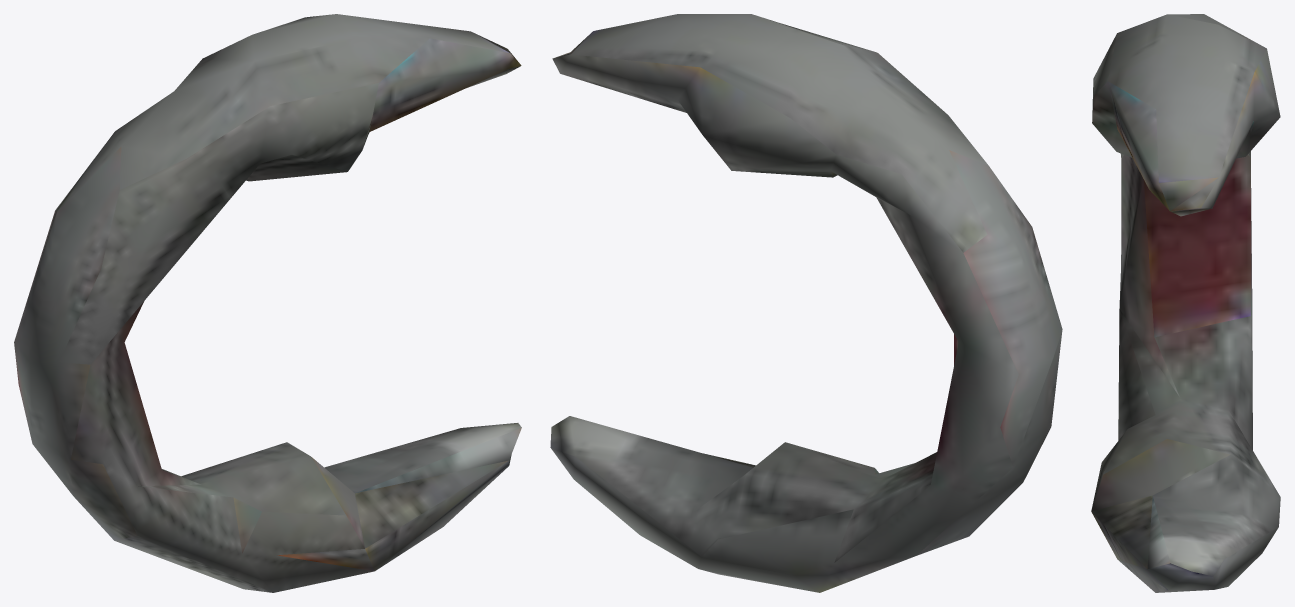
The model's file is dagger_round.glb.
3 views of the same model, side by side, from view 1: azimuth 30°, elevation 25°; view 2: azimuth 150°, elevation 25°; view 3: azimuth 270°, elevation 25° (orthographic). The views are drawn at different scales.
Visible parts, largest first — view 1: heavy_maul; view 2: heavy_maul; view 3: heavy_maul.
Boxes of the visible parts, left/top/right/bottom form: heavy_maul: left=14, top=14, right=521, bottom=592; heavy_maul: left=550, top=14, right=1062, bottom=592; heavy_maul: left=1091, top=14, right=1280, bottom=592.
Size of the model in its own units: 0.1556 by 0.1609 by 0.0533.
Materials: 1 (1 with a texture image).
